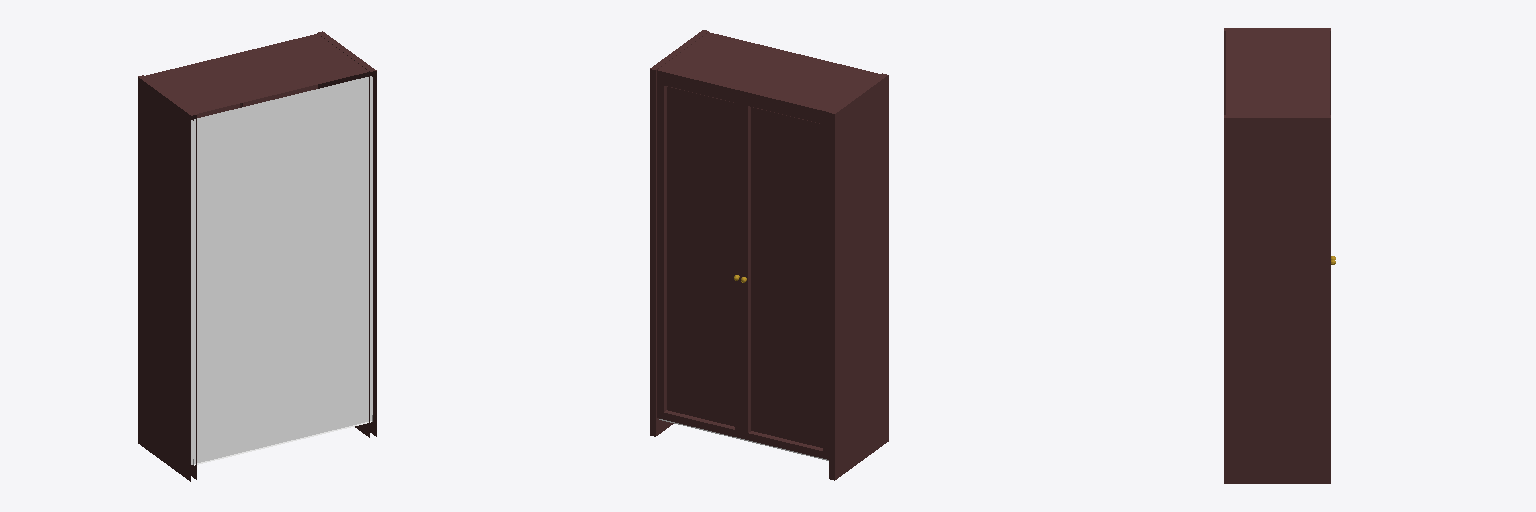
Rendered from wardrobe.obj.
3 views of the same model, side by side, from view 1: azimuth 30°, elevation 25°; view 2: azimuth 150°, elevation 25°; view 3: azimuth 270°, elevation 25° (orthographic).
Visible parts, largest first — view 1: wardrobe; view 2: wardrobe; view 3: wardrobe.
Boxes of the visible parts, x1,y1,x2,y2 form: wardrobe: [138, 31, 376, 481]; wardrobe: [650, 30, 888, 480]; wardrobe: [1224, 28, 1335, 483].
Size of the model in its own units: 0.9896 by 1.87 by 0.517.